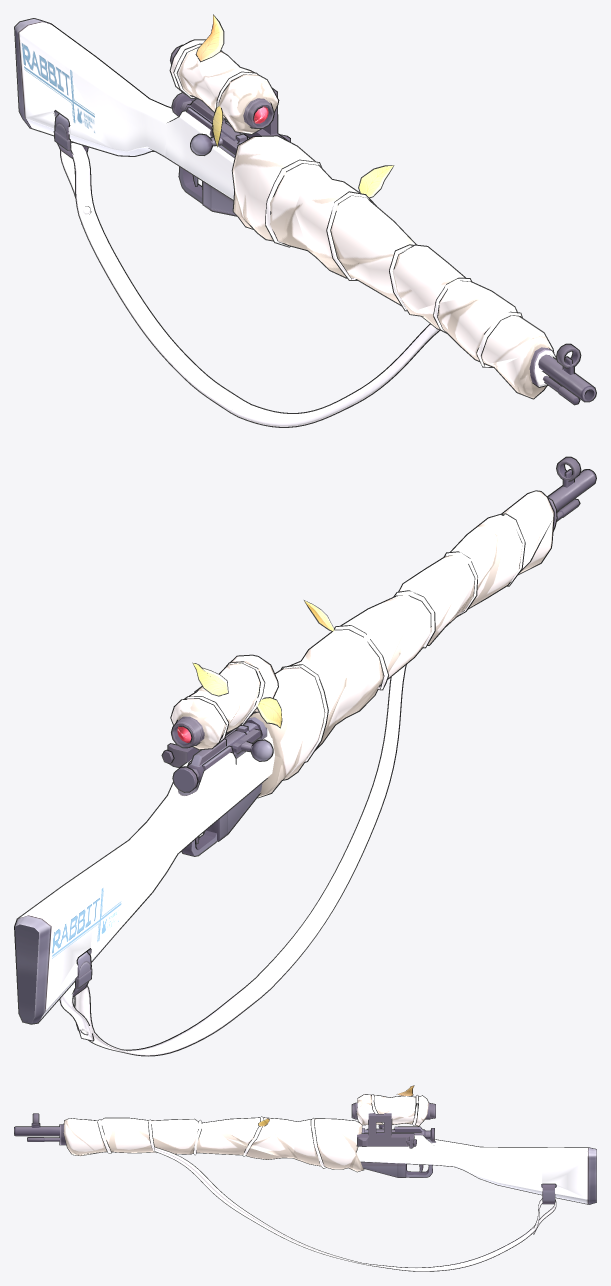
File: gun.glb
The picture shows the model from 3 angles, top to bottom: view 1: azimuth 30°, elevation 25°; view 2: azimuth 150°, elevation 25°; view 3: azimuth 270°, elevation 25°; orthographic projection. The views are drawn at different scales.
Parts seen in each view (by area): view 1: Object_51, Object_50; view 2: Object_51, Object_50; view 3: Object_51, Object_50.
Boxes of the visible parts, <box> form: Object_51: <box>15,15,595,426</box>; Object_50: <box>14,14,596,427</box>; Object_51: <box>15,457,595,1055</box>; Object_50: <box>14,456,596,1056</box>; Object_51: <box>14,1086,596,1271</box>; Object_50: <box>14,1085,596,1271</box>.
Bounding box in the file's own units: 9.05 × 36.82 × 103.
Materials: 2 (1 with a texture image).
